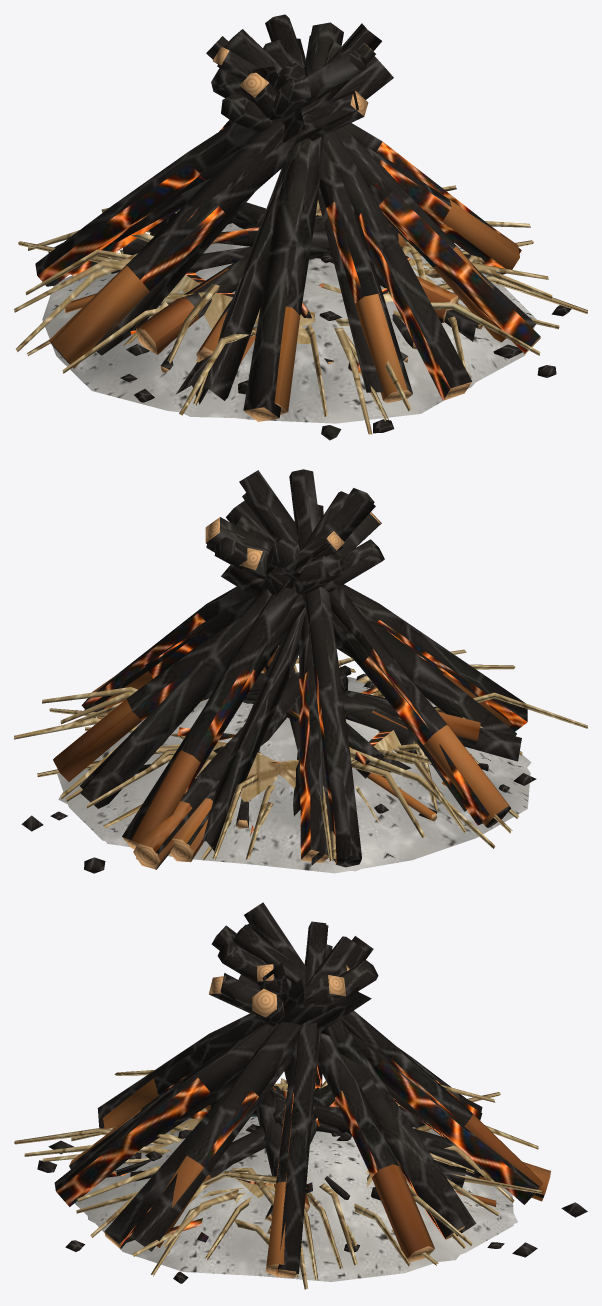
The model's file is IO_Fire_Stages_A.glb.
The picture shows the model from 3 angles, top to bottom: view 1: azimuth 30°, elevation 25°; view 2: azimuth 150°, elevation 25°; view 3: azimuth 270°, elevation 25°; orthographic projection. The views are drawn at different scales.
Visible parts, largest first — view 1: Stage_Flame_L0, Stage_Flame_L1, Stage_Ashes_L0, Stage_Flame_L2, Stage_Glow_L0, Stage_Ashes_L1, Stage_Ashes_L2, Stage_Glow_L1; view 2: Stage_Flame_L0, Stage_Ashes_L0, Stage_Flame_L2, Stage_Flame_L1, Stage_Glow_L0, Stage_Ashes_L1, Stage_Ashes_L2, Stage_Glow_L1, Stage_Glow_L2; view 3: Stage_Flame_L0, Stage_Flame_L1, Stage_Ashes_L0, Stage_Flame_L2, Stage_Glow_L0, Stage_Ashes_L1, Stage_Ashes_L2, Stage_Glow_L1.
Boxes of the visible parts, left/top/right/bottom form: Stage_Flame_L0: left=27, top=14, right=587, bottom=414; Stage_Flame_L1: left=18, top=22, right=559, bottom=421; Stage_Ashes_L0: left=42, top=202, right=536, bottom=433; Stage_Flame_L2: left=48, top=23, right=536, bottom=400; Stage_Glow_L0: left=14, top=185, right=552, bottom=434; Stage_Ashes_L1: left=108, top=212, right=571, bottom=440; Stage_Ashes_L2: left=50, top=230, right=480, bottom=410; Stage_Glow_L1: left=140, top=209, right=483, bottom=421; Stage_Flame_L0: left=42, top=469, right=522, bottom=867; Stage_Ashes_L0: left=50, top=652, right=536, bottom=873; Stage_Flame_L2: left=80, top=470, right=516, bottom=865; Stage_Flame_L1: left=37, top=488, right=527, bottom=863; Stage_Glow_L0: left=14, top=649, right=587, bottom=861; Stage_Ashes_L1: left=21, top=650, right=531, bottom=873; Stage_Ashes_L2: left=58, top=671, right=521, bottom=871; Stage_Glow_L1: left=85, top=686, right=488, bottom=828; Stage_Glow_L2: left=153, top=727, right=446, bottom=835; Stage_Flame_L0: left=69, top=924, right=543, bottom=1280; Stage_Flame_L1: left=54, top=921, right=539, bottom=1289; Stage_Ashes_L0: left=37, top=1083, right=550, bottom=1281; Stage_Flame_L2: left=130, top=902, right=482, bottom=1273; Stage_Glow_L0: left=14, top=1070, right=514, bottom=1277; Stage_Ashes_L1: left=48, top=1086, right=587, bottom=1283; Stage_Ashes_L2: left=145, top=1085, right=466, bottom=1261; Stage_Glow_L1: left=42, top=1091, right=541, bottom=1277.
Size of the model in its own units: 0.5358 by 0.3091 by 0.5952.
2 materials, 2 textured.
